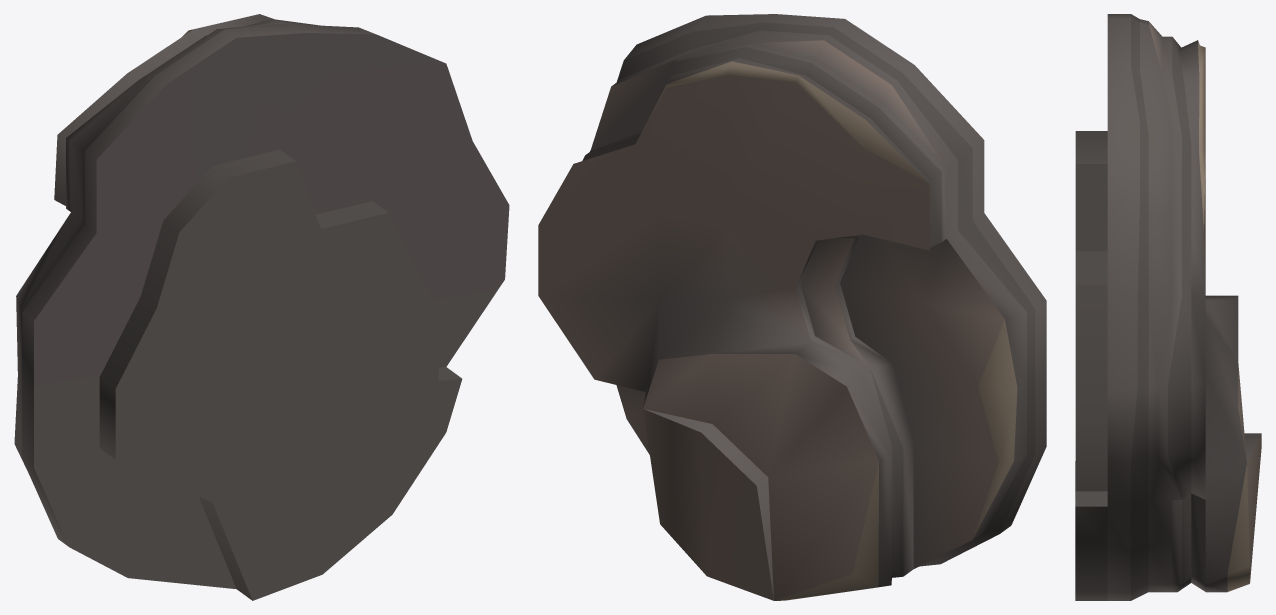
File: RockFlatLayered.003.glb
3 renders of one model, left to right at view 1: azimuth 30°, elevation 25°; view 2: azimuth 150°, elevation 25°; view 3: azimuth 270°, elevation 25°, orthographic.
Parts seen in each view (by area): view 1: RockFlatLayered.003; view 2: RockFlatLayered.003; view 3: RockFlatLayered.003.
Boxes of the visible parts, left/top/right/bottom form: RockFlatLayered.003: left=14, top=14, right=509, bottom=600; RockFlatLayered.003: left=538, top=14, right=1046, bottom=600; RockFlatLayered.003: left=1075, top=14, right=1261, bottom=600.
Size of the model in its own units: 706 by 782 by 237.
